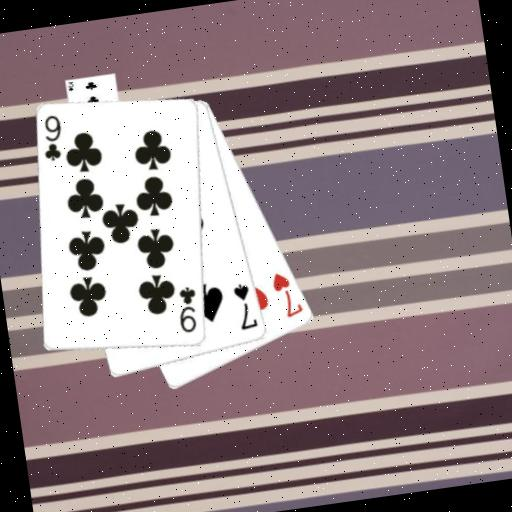7H: (268, 267, 306, 322)
7S: (230, 280, 261, 333)
9C: (172, 283, 203, 336), (37, 111, 68, 164)
